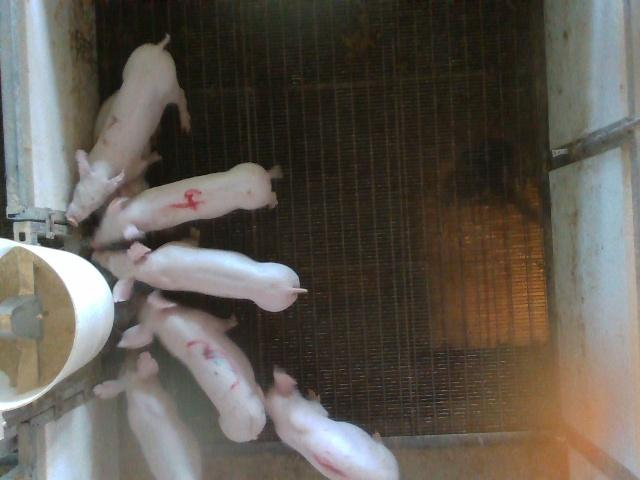pig-1: (265, 368, 396, 479)
pig-2: (66, 35, 190, 224)
pig-3: (119, 290, 265, 442)
pig-4: (91, 162, 279, 248)
